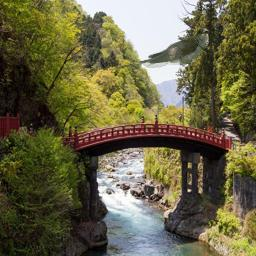Cuckoo: (114, 27, 209, 70)
